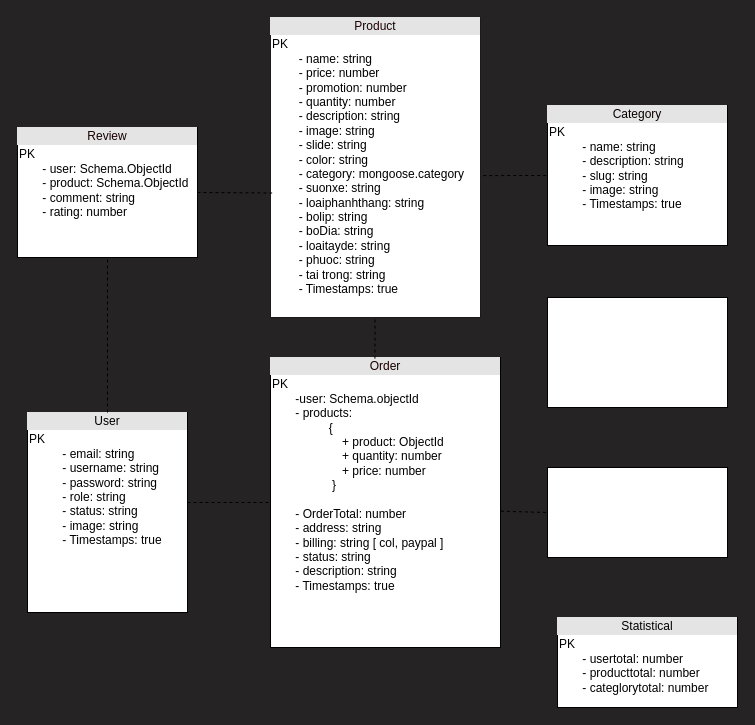
Some shapes in this 755 by 725 pixel diagram are drawn without their labels. Each missing label, with the centre of its shape:
"Color PK - name: string - description: string - image: string - Timestamps: true" goes at (x=637, y=352).
"Status PK - name: string" goes at (x=637, y=512).
